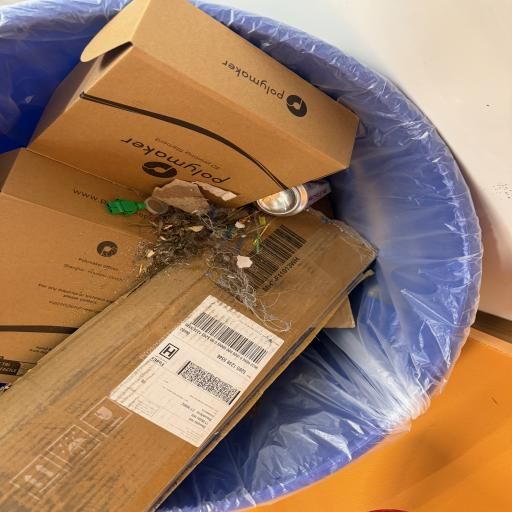Lego-Dude: (98, 192, 154, 224)
